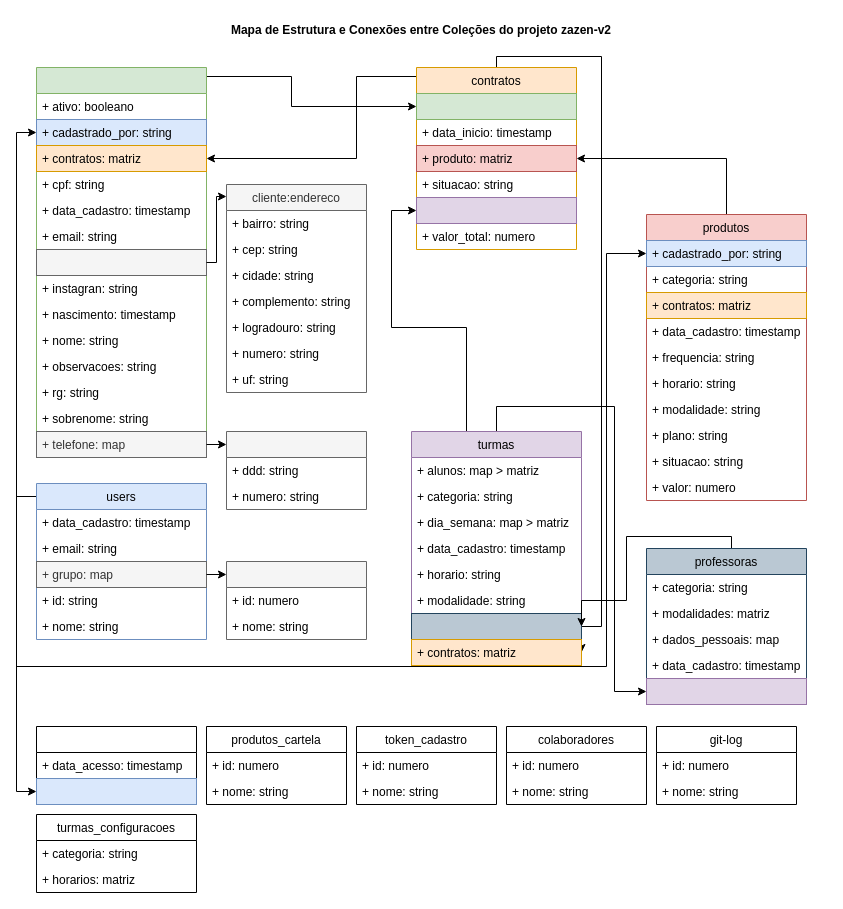
This 843x909 diagram has some shape labels left out. Here are the shapes that lost their labels. From the top down, the box of each, then its label:
(416, 92, 576, 120): + cliente: matriz > string
(416, 196, 576, 224): + turma: matriz
(36, 248, 206, 276): + endereco: map
(36, 66, 206, 458): clientes
(226, 430, 366, 510): cliente:telefone
(226, 560, 366, 640): users:grupo
(410, 612, 582, 640): + professoras: map > matriz
(646, 678, 806, 704): + turmas: matriz
(36, 726, 196, 804): acessos
(36, 778, 196, 804): + usuario: map (explícito)
